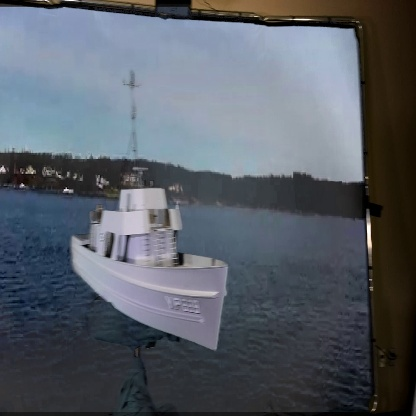YP689: (74, 64, 230, 350)
